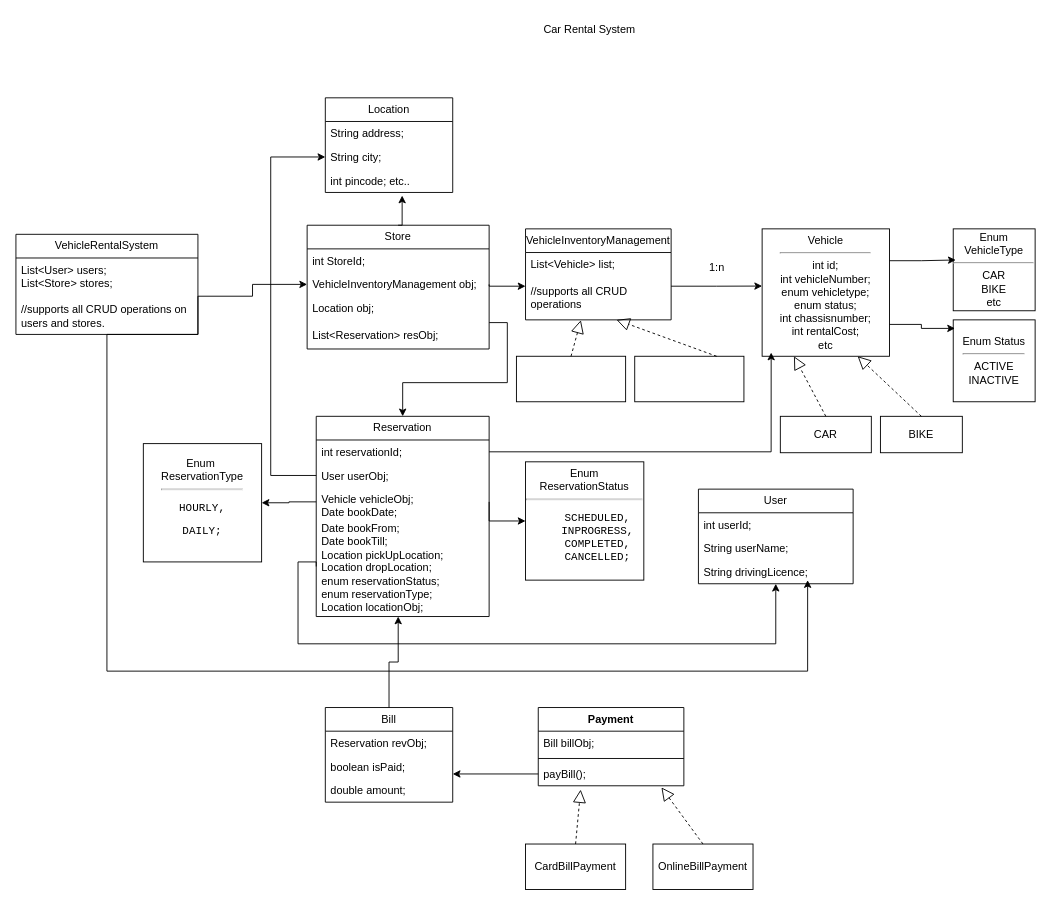
Image size: 1051x905. Some labels were removed from this diagram. Each missing label, with the centre of its shape:
BikeInventoryManager: [689,378]
CarInventoryManager: [571,378]
